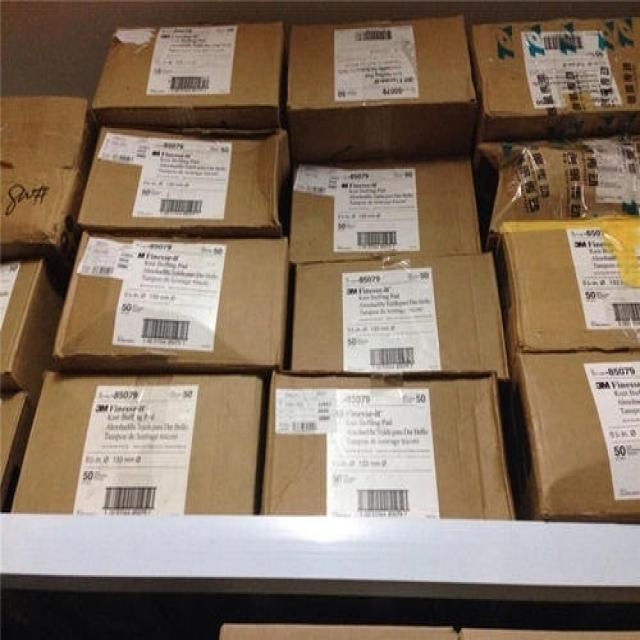box: (260, 370, 515, 521), (12, 370, 264, 515), (51, 230, 289, 370), (287, 14, 477, 164), (291, 253, 509, 381), (77, 126, 289, 239), (500, 217, 640, 382), (289, 152, 481, 265), (92, 20, 287, 130), (470, 17, 640, 143), (515, 353, 640, 522), (474, 135, 640, 253), (0, 96, 99, 290), (0, 259, 55, 399), (0, 393, 31, 510)
